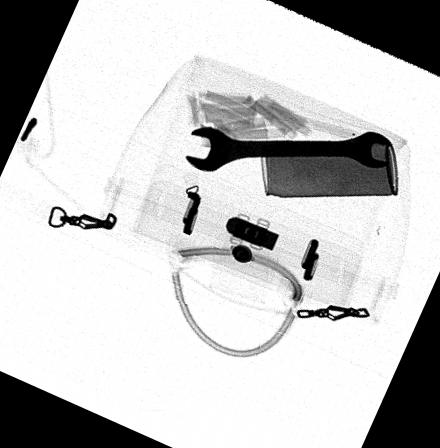Wrench: (184, 124, 393, 172)
